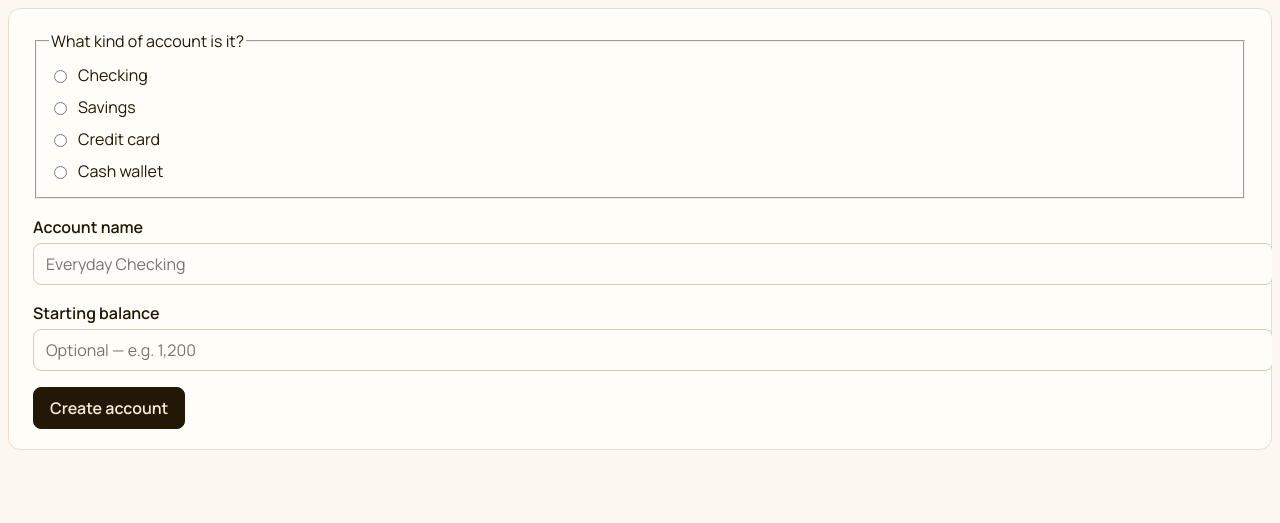
Scenario: AccountSetupForm › surfaces a server-side rejection as an alert with no confirmation
The width and height of the screenshot is (1280, 523).
Click the radio button labelled "Savings".
click(60, 108)  # box [54,102,67,115]
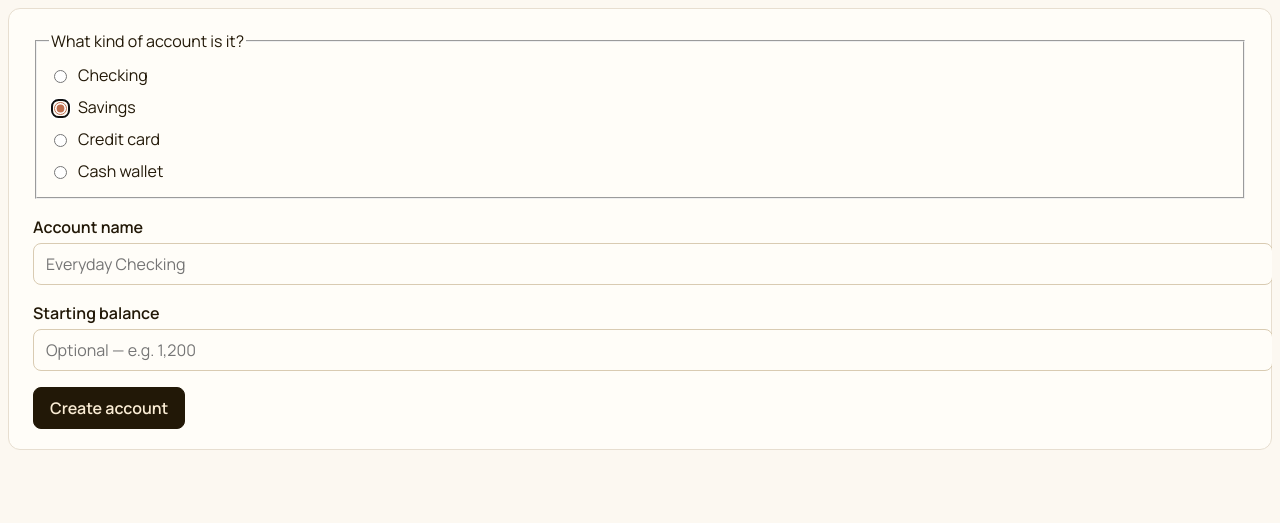
Type "Rainy Day" into the field labelled "Account name".
click(653, 264); type("Rainy Day")  # box [33,243,1273,285]
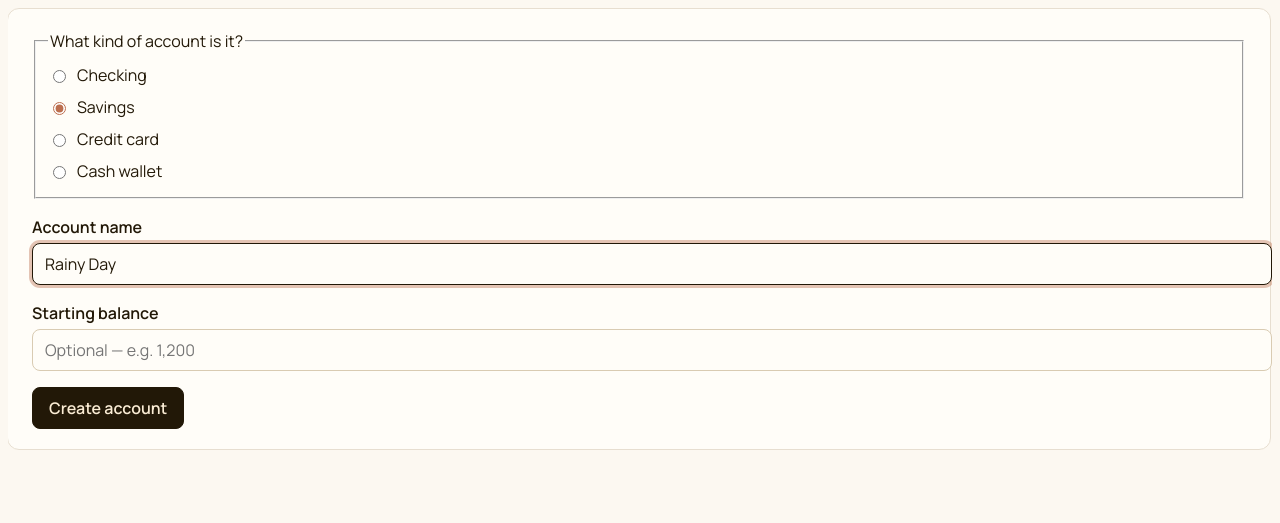
Type "abc" into the field labelled "Starting balance".
click(652, 350); type("abc")  # box [32,329,1272,371]
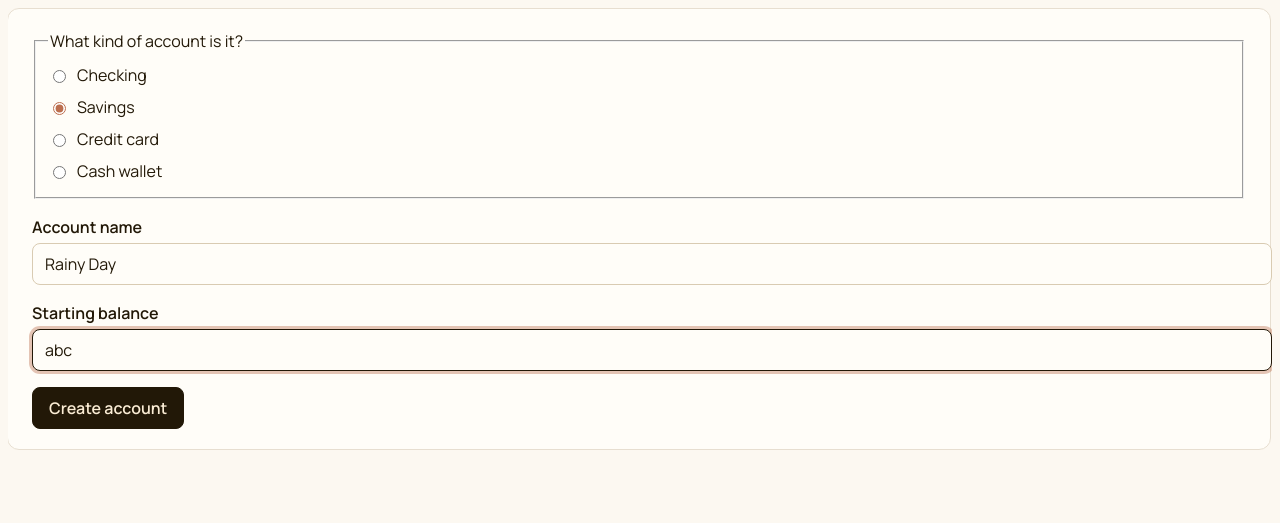
Click the button "Create account".
click(108, 408)  # box [32,387,184,429]
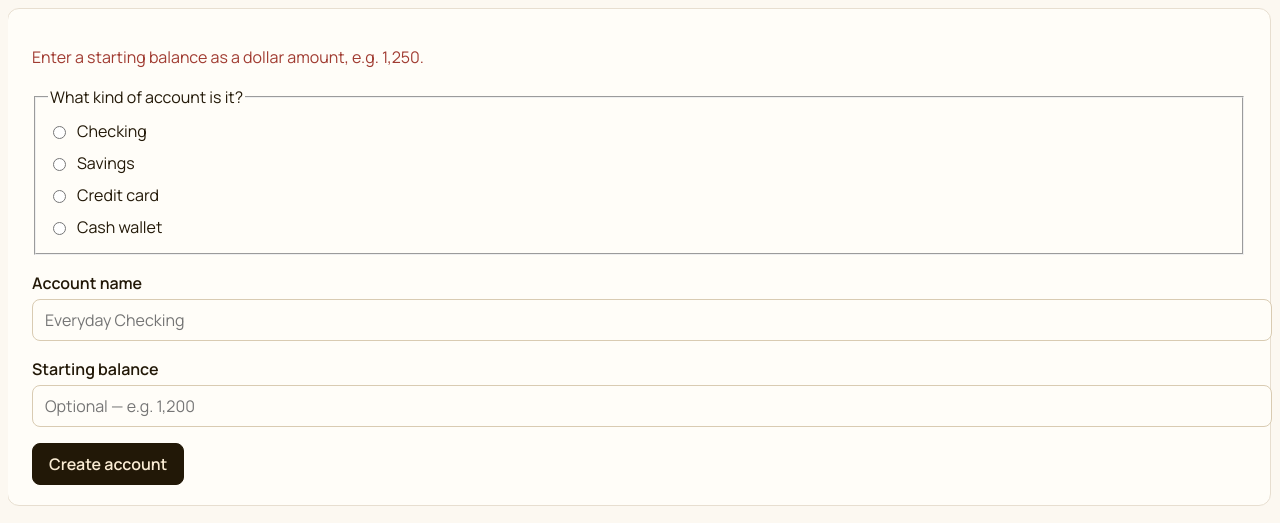
Expected: the message reads "Enter a starting balance as a dollar amount, e.g. 1,250.", [32,46,424,68]
